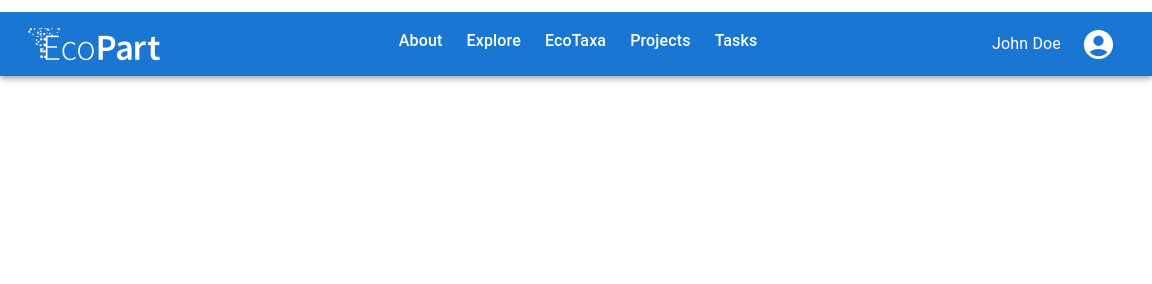
Test: TopBar (Z) › TC-Z1: shows authed nav links and opens the user menu
Expected: the link "Projects" is shown, [630,29,691,59]
Expected: the link "Tasks" is shown, [715,29,757,59]
Open the avatar menu.
Click the text "John Doe" at (1027, 44), box [992,32,1061,56]
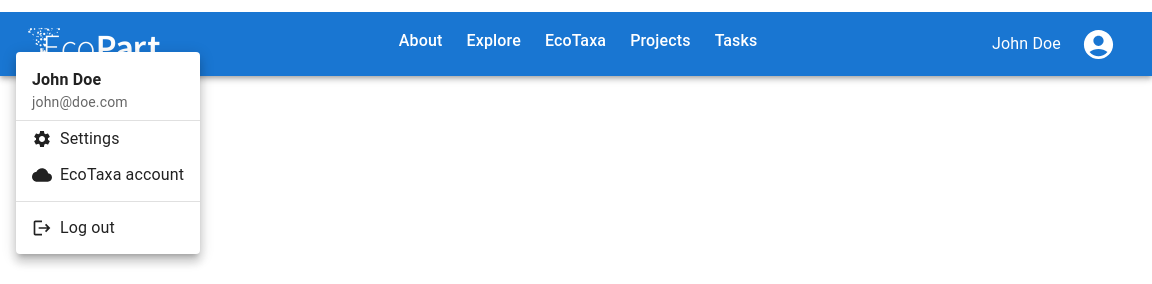
Result: the menu item "Settings" is shown at [32,129,120,149]
Result: the menu item "EcoTaxa account" is shown at [32,165,184,185]
Result: the menu item "Log out" is shown at [32,218,115,238]
